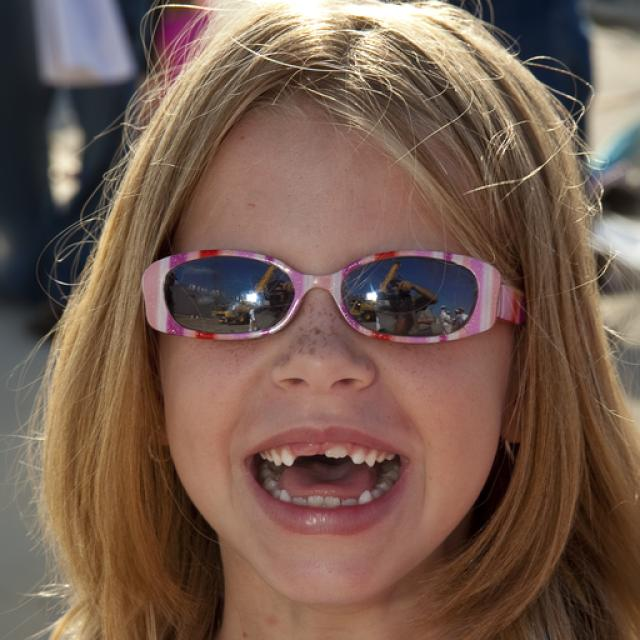Pigmentation: (279, 299, 333, 365)
